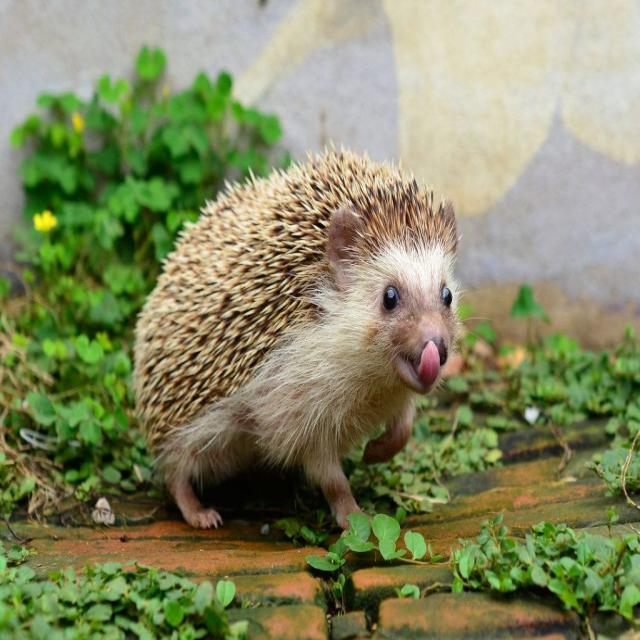Hedgehog: (133, 148, 468, 534)
